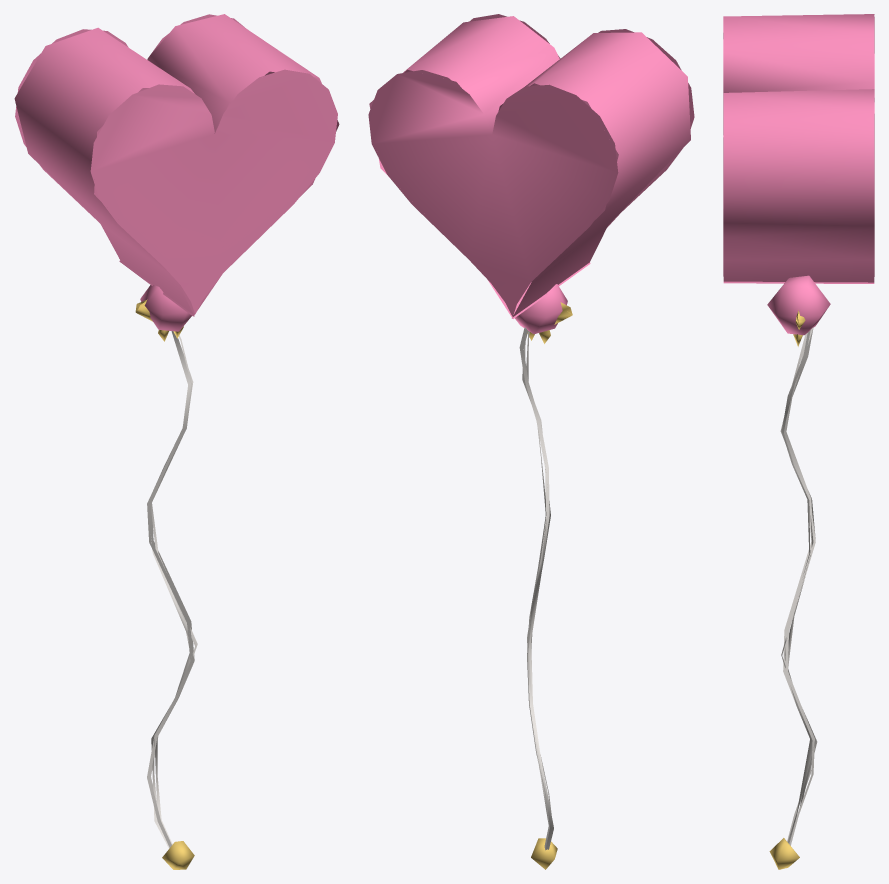
The model's file is lod_balloon_heart.glb.
3 renders of one model, left to right at view 1: azimuth 30°, elevation 25°; view 2: azimuth 150°, elevation 25°; view 3: azimuth 270°, elevation 25°, orthographic.
Visible parts, largest first — view 1: balloon_heart; view 2: balloon_heart; view 3: balloon_heart.
Boxes of the visible parts, <box> form: balloon_heart: <box>14,14,339,869</box>; balloon_heart: <box>368,14,694,869</box>; balloon_heart: <box>723,14,874,869</box>.
Size of the model in its own units: 0.9499 by 2.99 by 0.4994.
